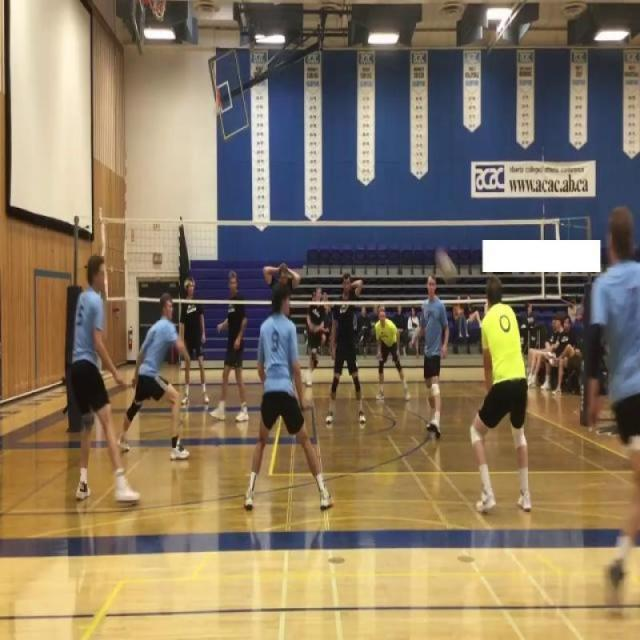volleyball: (435, 249, 457, 286)
